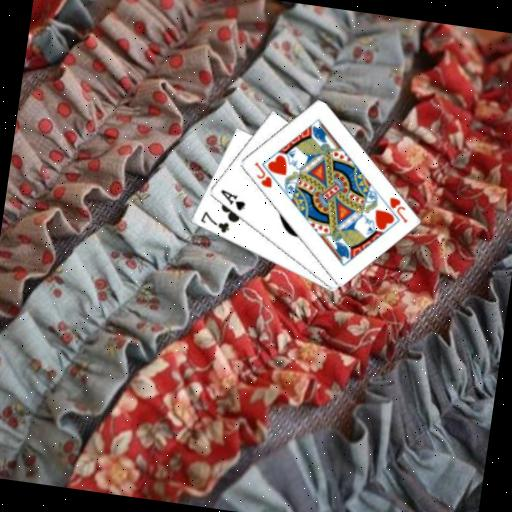7C: (196, 208, 233, 236)
AS: (215, 186, 248, 213)
JH: (248, 158, 277, 190), (383, 193, 412, 225)
